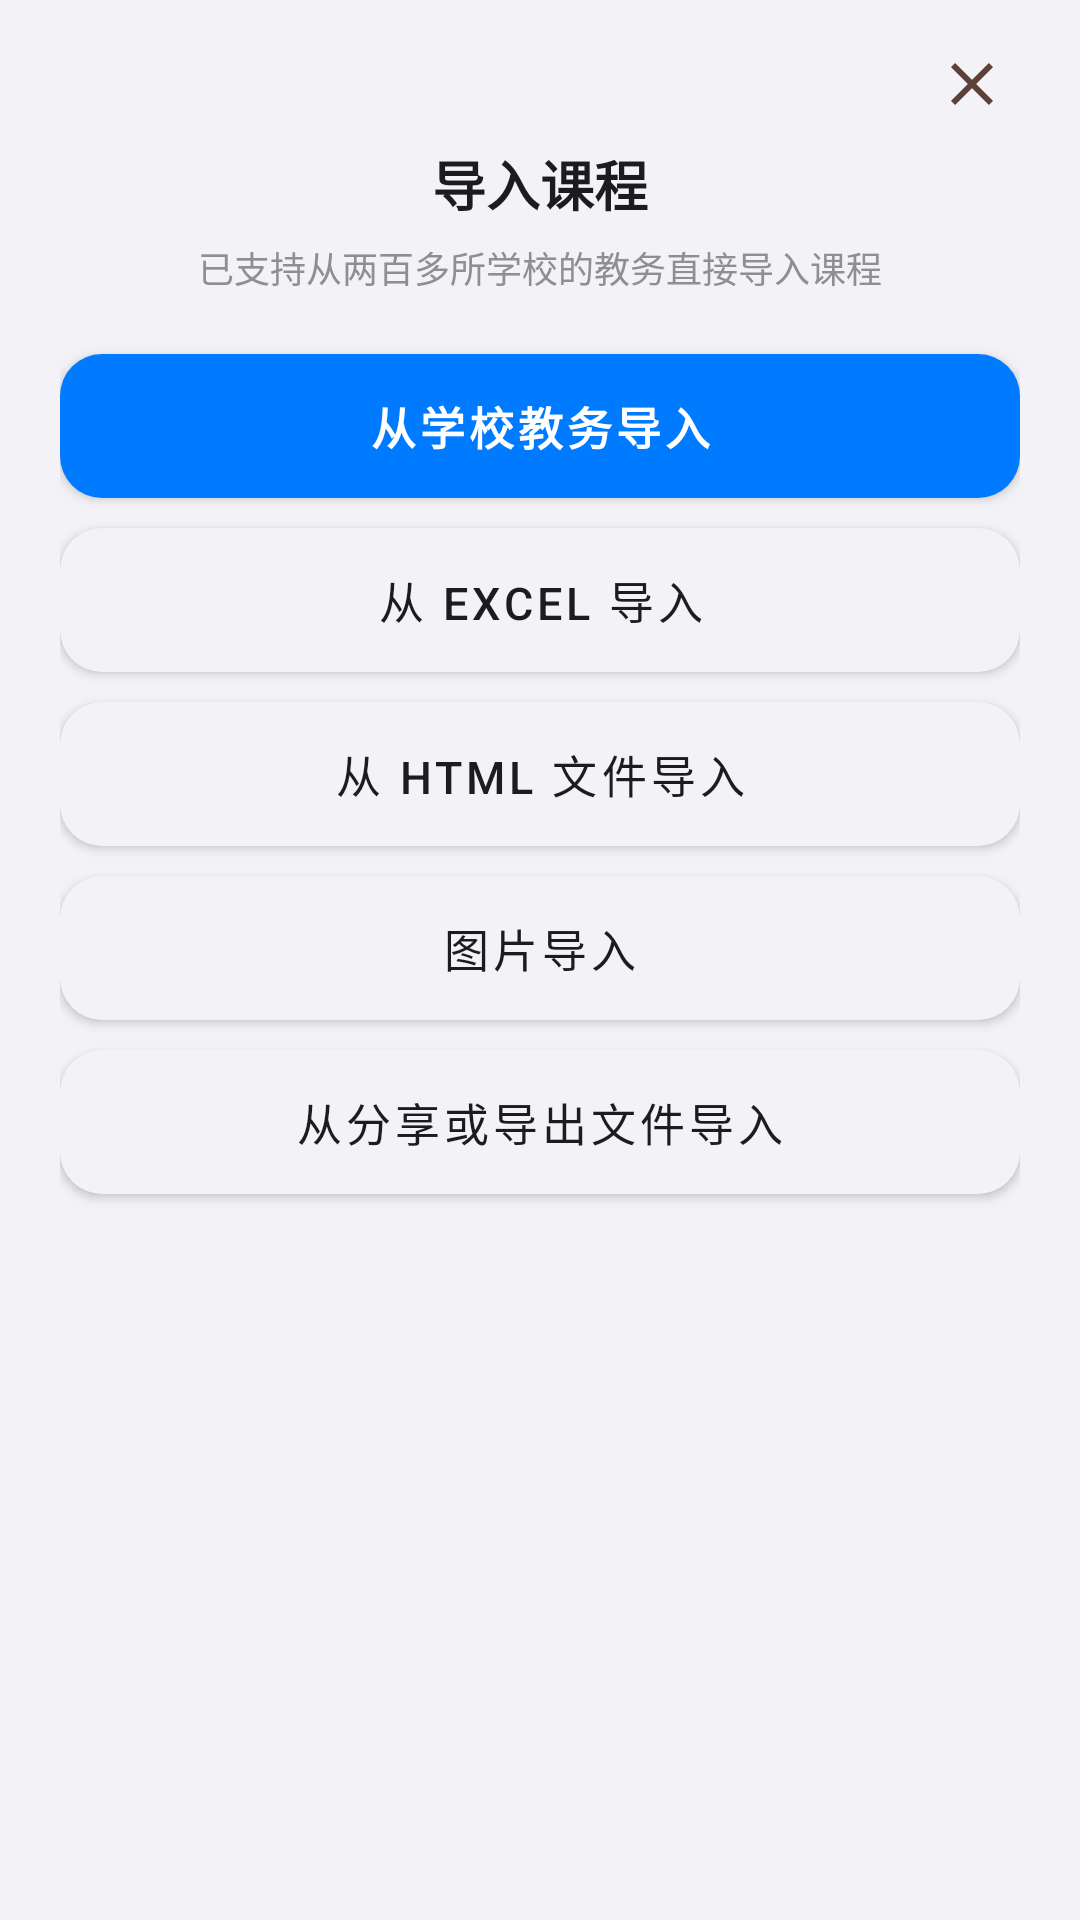

Icons on this 1080x1920 Android screen, each with its box as (x1, y1, x2, y2):
close: (951, 63, 993, 105)
